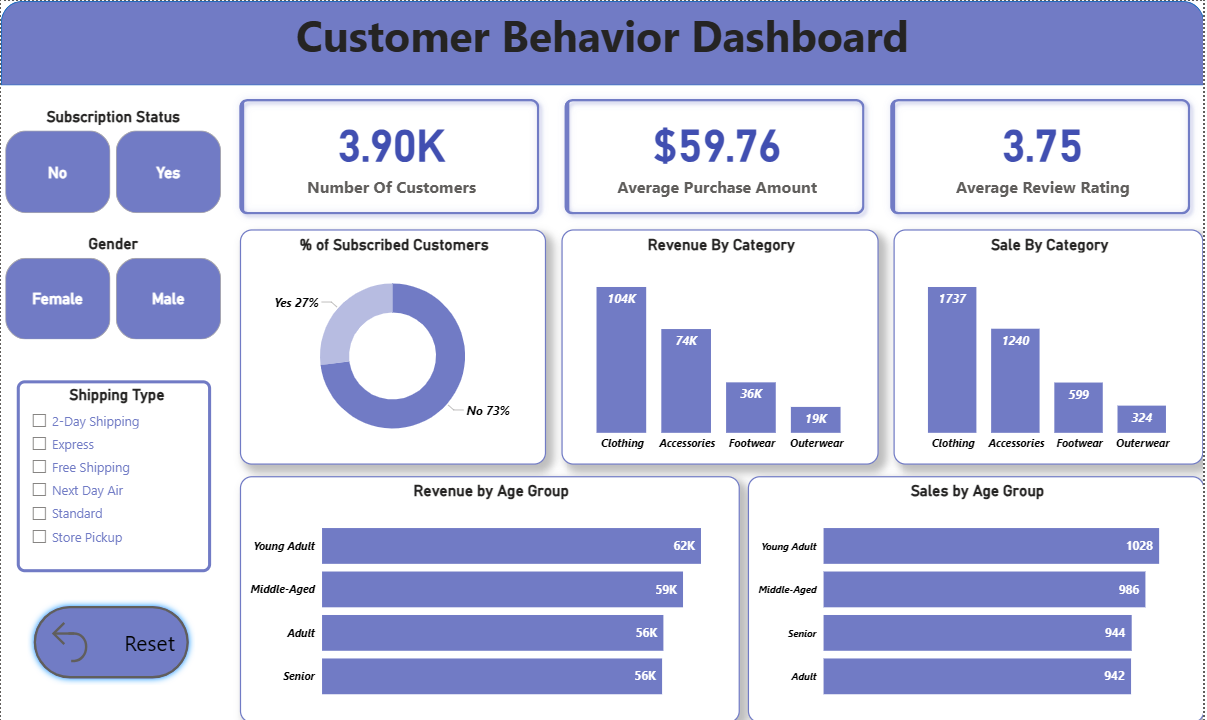

The page's visual inventory and layout, read from the dashboard file:
{"tool":"powerbi","page":{"name":"Page 1","canvas":[1500,900],"ordinal":0},"visuals":[{"type":"cardVisual","fields":{"Data":["public customer.Number Of Customers","public customer.Average Purchase Amount","public customer.Average Review Rating"]},"box":[279.4,105.4,1220.1,178.7],"z":0},{"type":"shape","box":[0,0,1499.5,105.4],"z":1000},{"type":"textbox","box":[0,0,1499.5,105.4],"z":2000},{"type":"donutChart","title":"% of Subscribed Customers","fields":{"Category":["public customer.subscription_status"],"Y":["public customer.Number Of Customers"]},"box":[297.8,284,381.8,293.2],"z":3000},{"type":"columnChart","title":"Revenue By Category","fields":{"Category":["public customer.category"],"Y":["Sum(public customer.purchase_amount)"]},"box":[698.6,284,395.5,293.2],"z":4000},{"type":"columnChart","title":"Sale By Category","fields":{"Category":["public customer.category"],"Y":["public customer.Number Of Customers"]},"box":[1113.2,284,386.3,293.2],"z":5000},{"type":"barChart","title":"Revenue by Age Group","fields":{"Category":["public customer.age_group"],"Y":["Sum(public customer.purchase_amount)"]},"box":[297.8,592.3,623.3,307.6],"z":6000},{"type":"barChart","title":"Sales by Age Group","fields":{"Category":["public customer.age_group"],"Y":["public customer.Number Of Customers"]},"box":[930.9,592.3,569.4,307.6],"z":7000},{"type":"advancedSlicerVisual","title":"Subscription Status","fields":{"Values":["public customer.subscription_status"]},"box":[0,132.5,279.8,137.4],"z":8000},{"type":"advancedSlicerVisual","title":"Gender","fields":{"Values":["public customer.gender"]},"box":[0,291.2,279.8,135.8],"z":9000},{"type":"slicer","title":"Shipping Type","fields":{"Values":["public customer.shipping_type"]},"box":[19.6,472.8,242.1,238.9],"z":10000},{"type":"actionButton","box":[32.7,746.1,209.4,106.3],"z":11000}]}

Visuals, with their boxes in screenshot pixels (x1, y1, x2, y2), scaled from the page's 1500x900 canvas onto the 1207x720 screenshot:
cardVisual - public customer.Number Of Customers x public customer.Average Purchase Amount: box=[225, 84, 1206, 227]
shape: box=[0, 0, 1206, 84]
textbox: box=[0, 0, 1206, 84]
"% of Subscribed Customers" donutChart: box=[240, 227, 547, 462]
"Revenue By Category" columnChart: box=[562, 227, 880, 462]
"Sale By Category" columnChart: box=[896, 227, 1206, 462]
"Revenue by Age Group" barChart: box=[240, 474, 741, 719]
"Sales by Age Group" barChart: box=[749, 474, 1206, 719]
"Subscription Status" advancedSlicerVisual: box=[0, 106, 225, 216]
"Gender" advancedSlicerVisual: box=[0, 233, 225, 342]
"Shipping Type" slicer: box=[16, 378, 211, 569]
actionButton: box=[26, 597, 195, 682]
